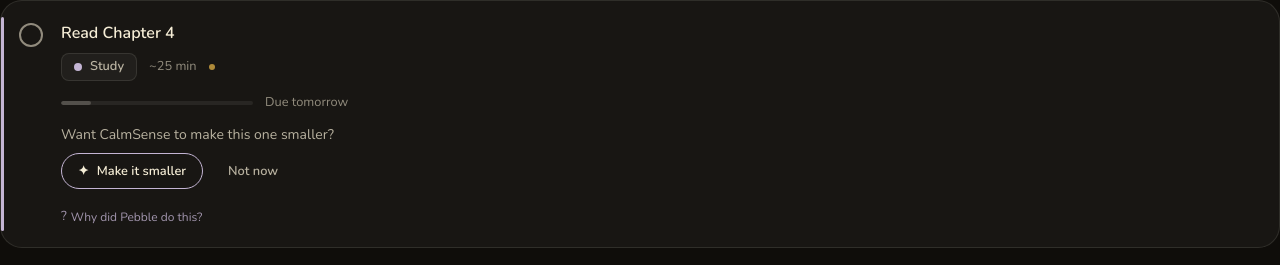
Test: TaskCard › time left (8.3) › asks CalmSense when the offer is taken
The width and height of the screenshot is (1280, 265).
Click the button "✦ Make it smaller" at [132, 171], box [61,153,203,189]
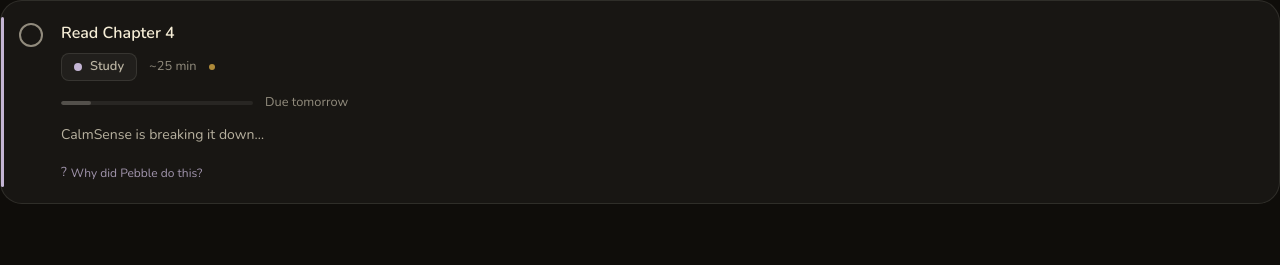
Expected: the message reads "CalmSense is breaking it down…", [61,125,264,144]
